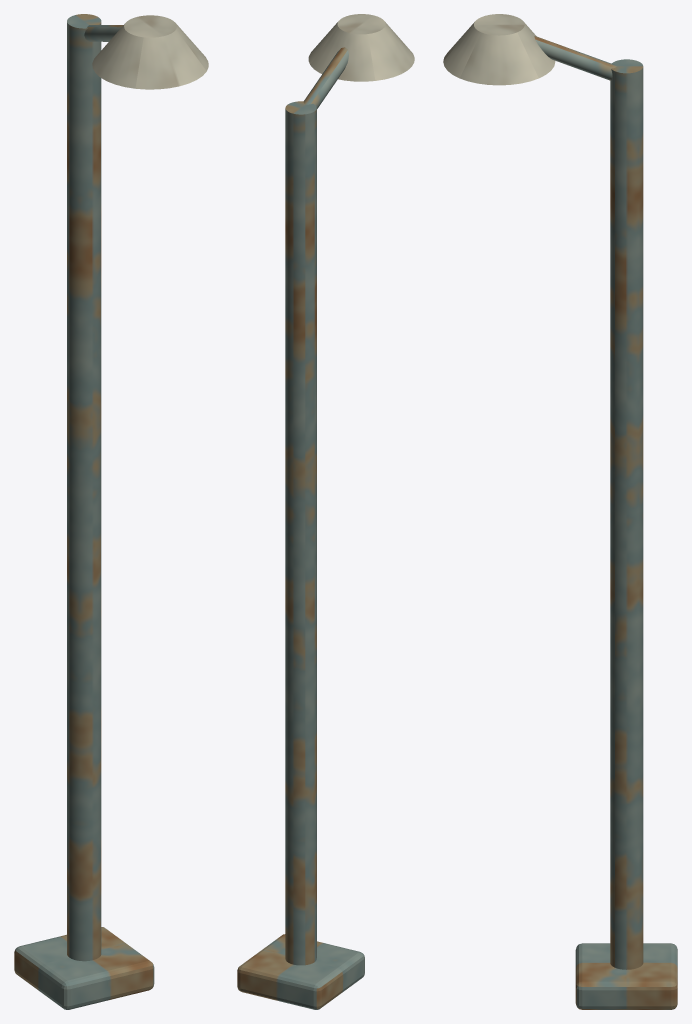
Rendered from Dock_Lamp.glb.
3 renders of one model, left to right at view 1: azimuth 30°, elevation 25°; view 2: azimuth 150°, elevation 25°; view 3: azimuth 270°, elevation 25°, orthographic. The views are drawn at different scales.
Visible parts, largest first — view 1: Dock_Lamp; view 2: Dock_Lamp; view 3: Dock_Lamp.
Boxes of the visible parts, x1=… form: Dock_Lamp: x1=14, y1=14, x2=208, y2=1009; Dock_Lamp: x1=237, y1=14, x2=414, y2=1009; Dock_Lamp: x1=443, y1=14, x2=677, y2=1009.
Size of the model in its own units: 0.44 by 4.18 by 0.92.
2 materials, 2 textured.
